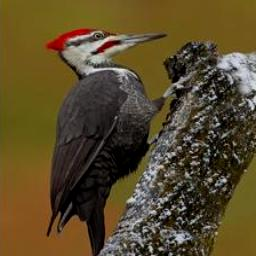Woodpecker: (43, 28, 195, 256)
